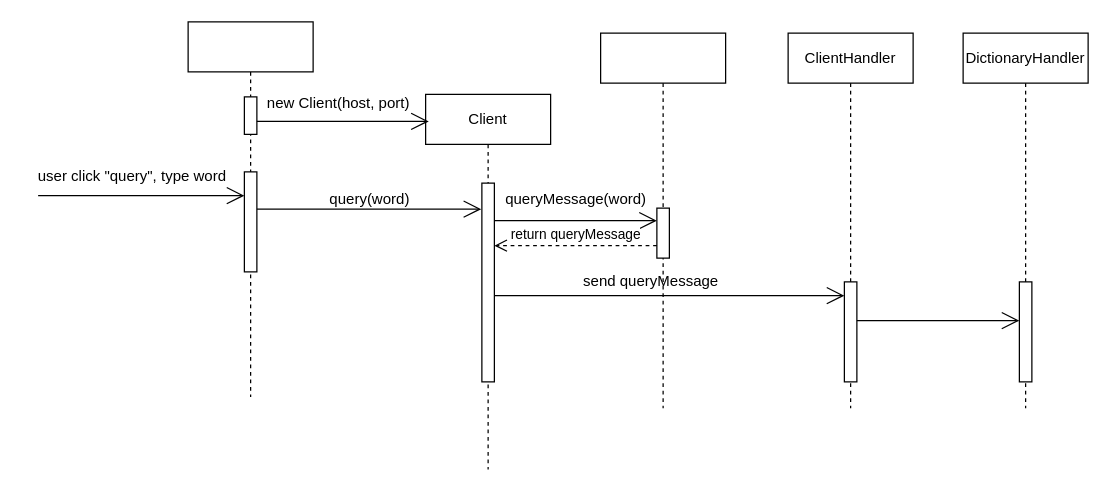
This 1110x491 diagram has some shape labels left out. The box of each missing label's shape, as (x1, y1, x2, y2) in pixels:
DictionaryClientUI: (187, 21, 313, 397)
MessageProrocal: (599, 32, 726, 408)
